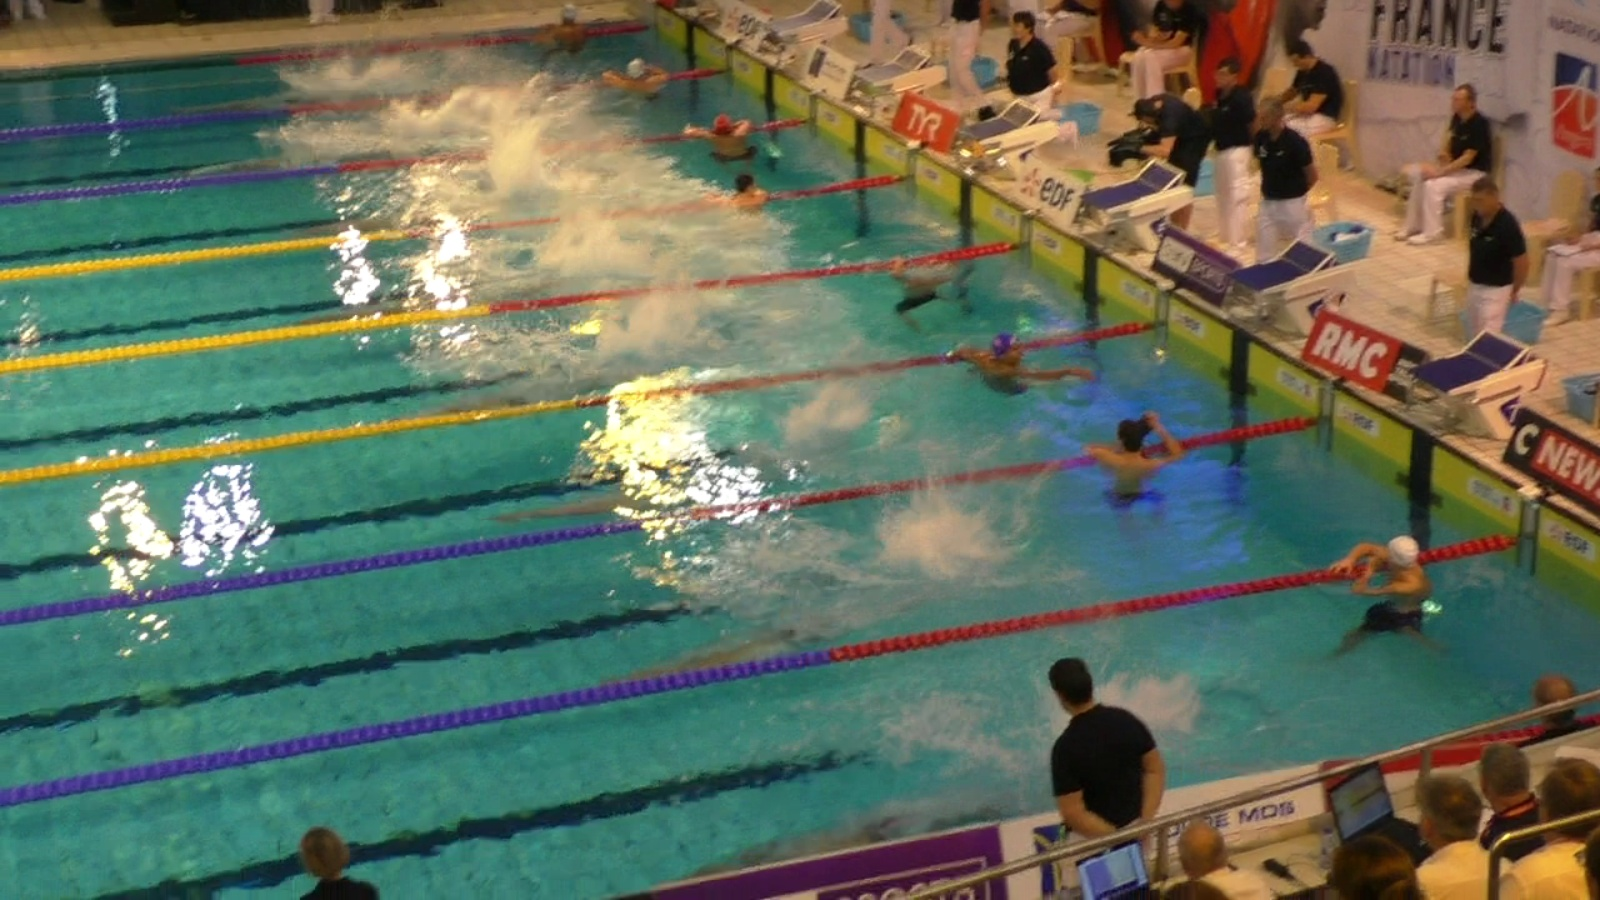swimmer: (693, 791, 979, 879), (595, 629, 799, 689), (489, 480, 690, 523), (418, 392, 538, 420)
swimmerwdd: (1335, 535, 1447, 663), (953, 332, 1101, 395), (1090, 412, 1179, 516), (881, 255, 959, 336), (684, 115, 762, 168), (603, 52, 669, 111), (542, 4, 587, 79), (721, 169, 774, 227)
